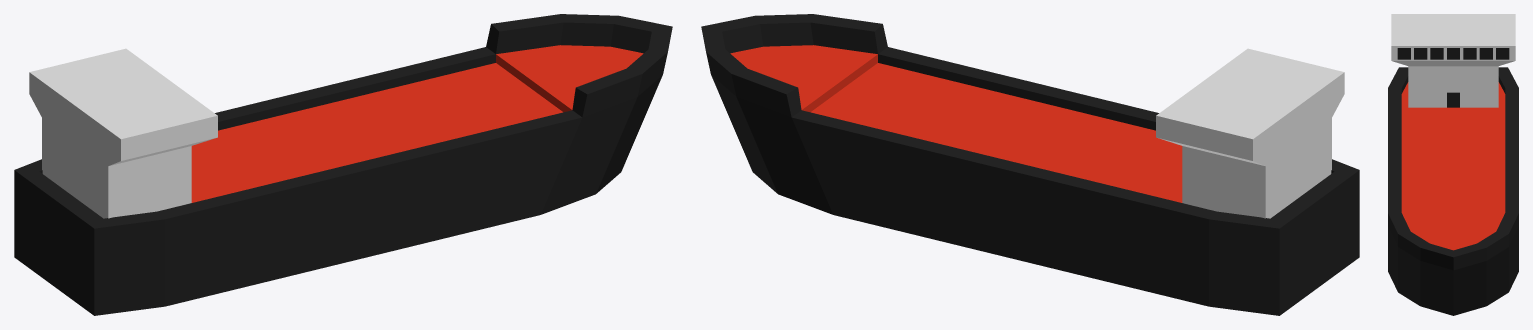
The model's file is tanker_ship.fbx.
3 renders of one model, left to right at view 1: azimuth 30°, elevation 25°; view 2: azimuth 150°, elevation 25°; view 3: azimuth 270°, elevation 25°, orthographic. The views are drawn at different scales.
Parts seen in each view (by area): view 1: Cube; view 2: Cube; view 3: Cube.
Part boxes in pixels (left/top/right/bottom): Cube: left=14, top=14, right=672, bottom=315; Cube: left=701, top=14, right=1359, bottom=315; Cube: left=1388, top=14, right=1518, bottom=315.
Bounding box in the file's own units: 296 × 80.52 × 80.
